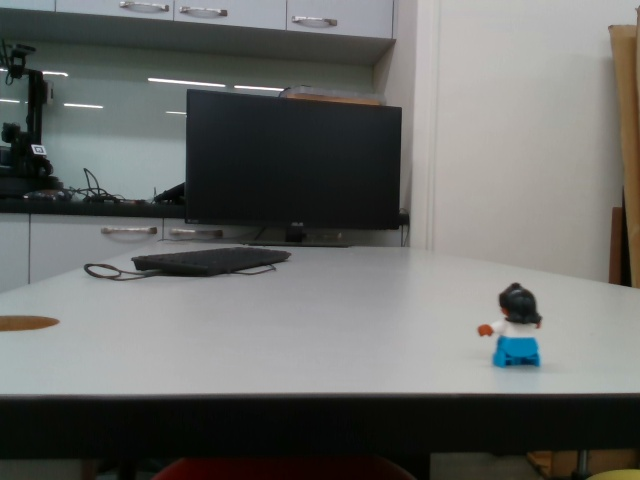people: (476, 279, 548, 369)
